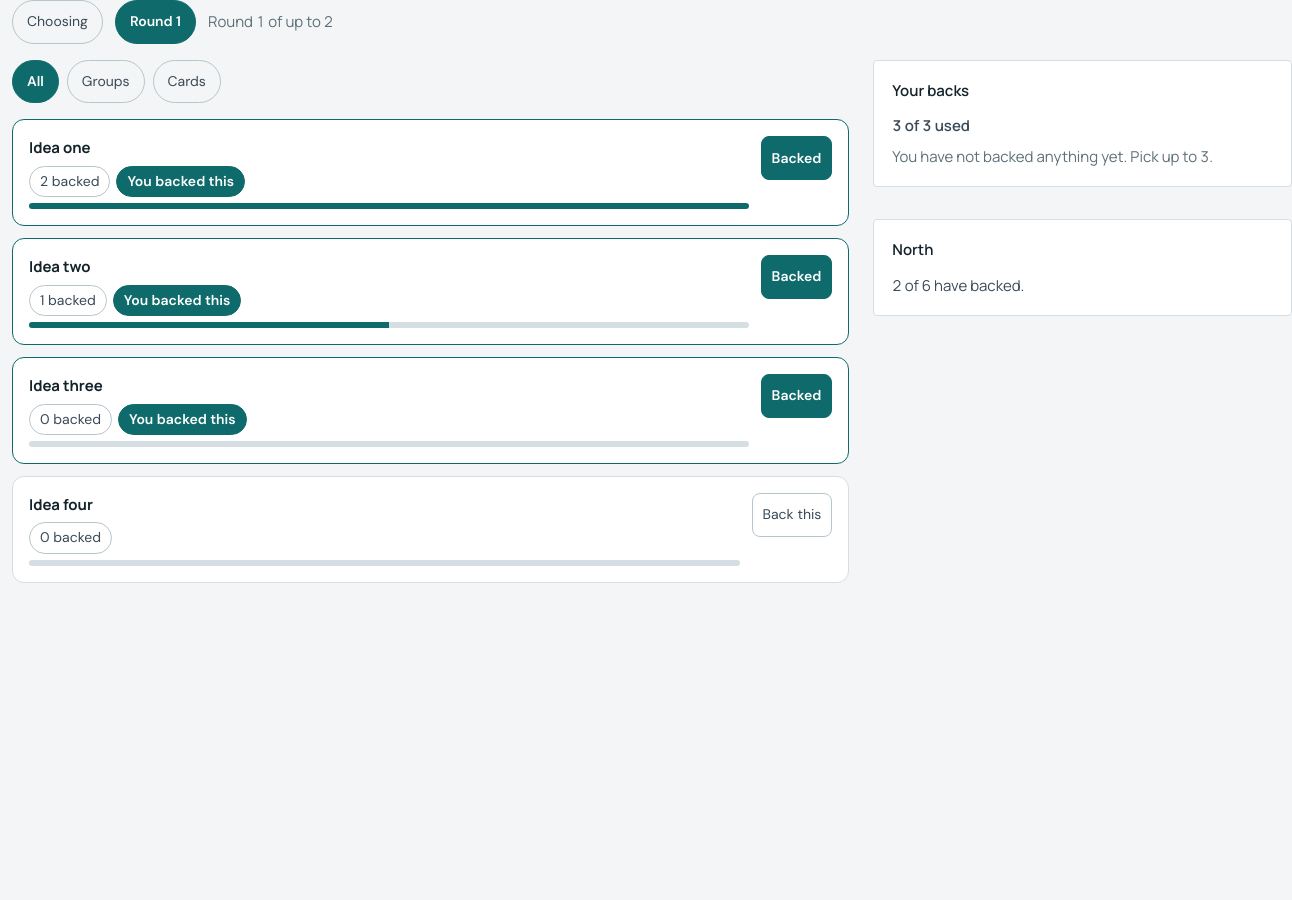
Scenario: a fourth back shows the server's refusal, and take back sends on:false
What coordinates should you click on to do the following:
click the button "Back this"
I would click on:
 (792, 515)
Its box is [752, 493, 832, 537].
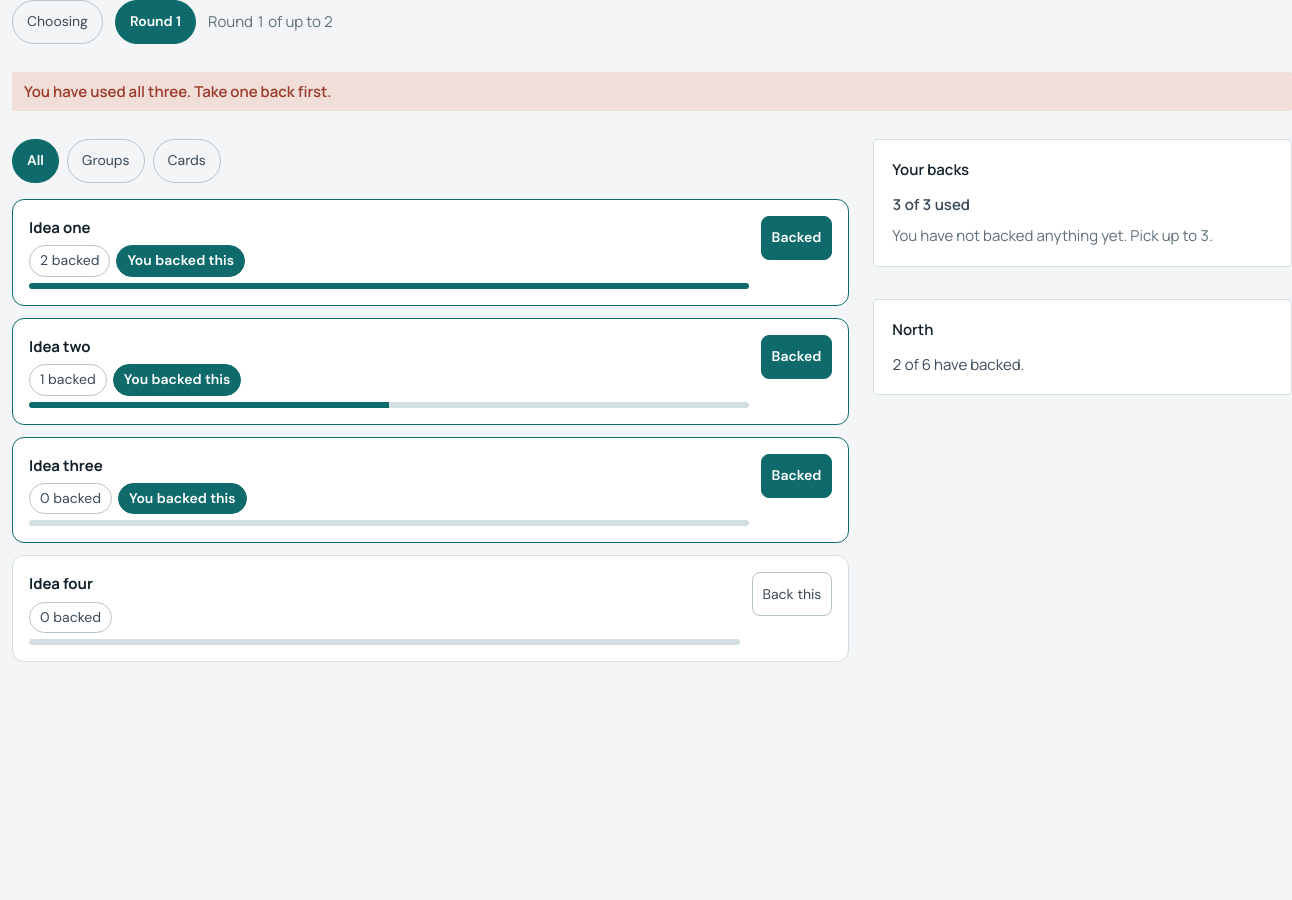
expect the message reads "You have used all three. Take one back first.": met, box [24, 81, 332, 102]
